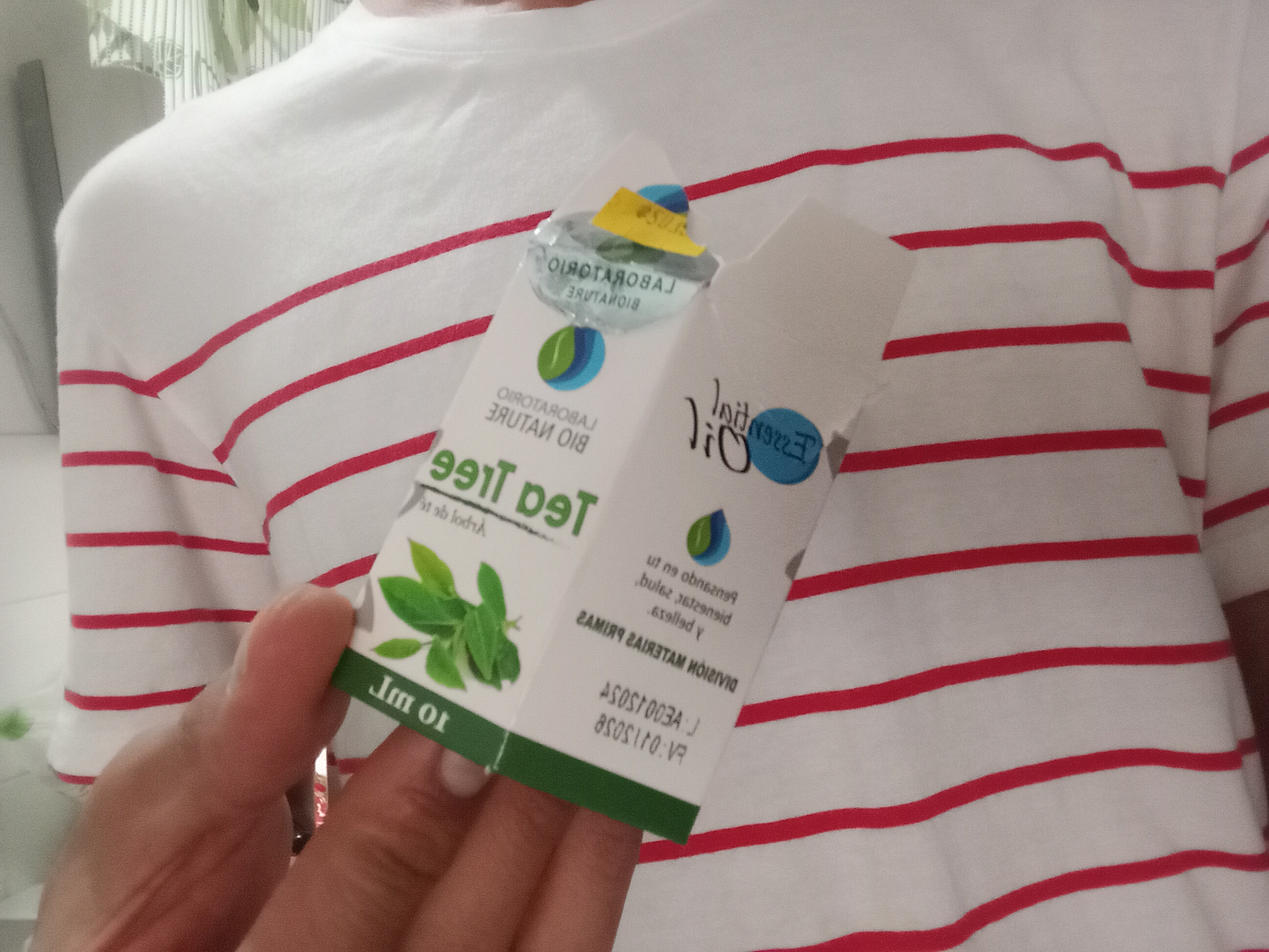Carton: (331, 232, 885, 834)
